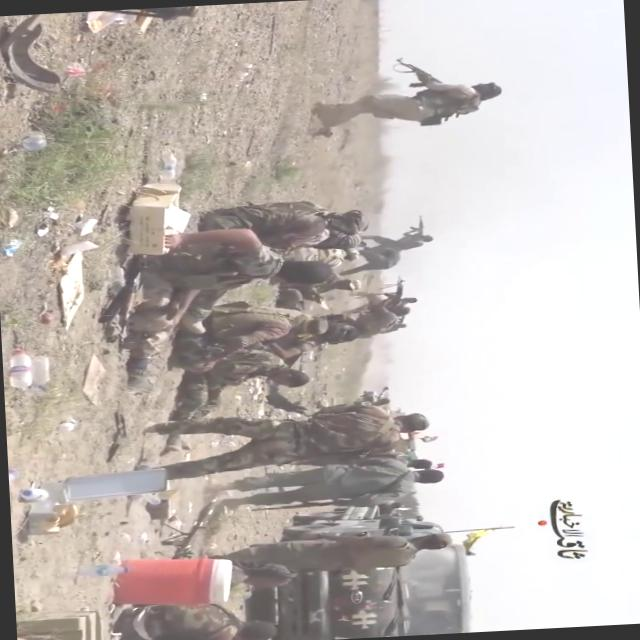long weapon: (372, 55, 455, 95), (400, 212, 430, 235)
